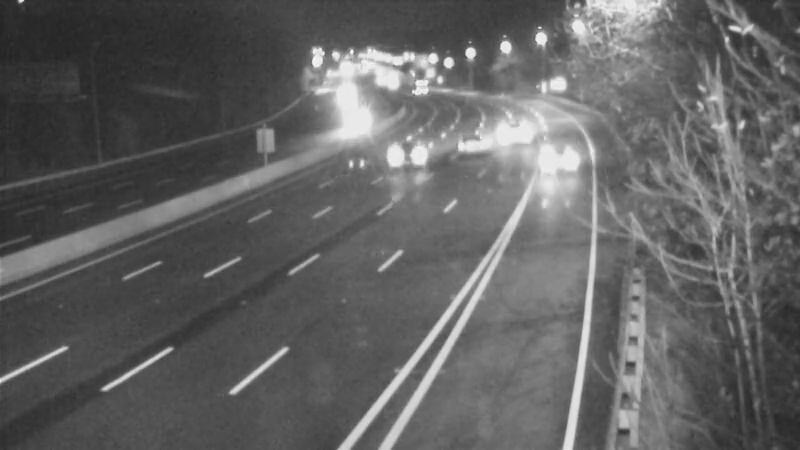vehicle: (511, 125, 591, 205), (358, 115, 438, 195), (394, 64, 444, 114), (483, 108, 533, 158), (443, 117, 493, 167), (334, 99, 384, 149), (320, 64, 370, 114)
